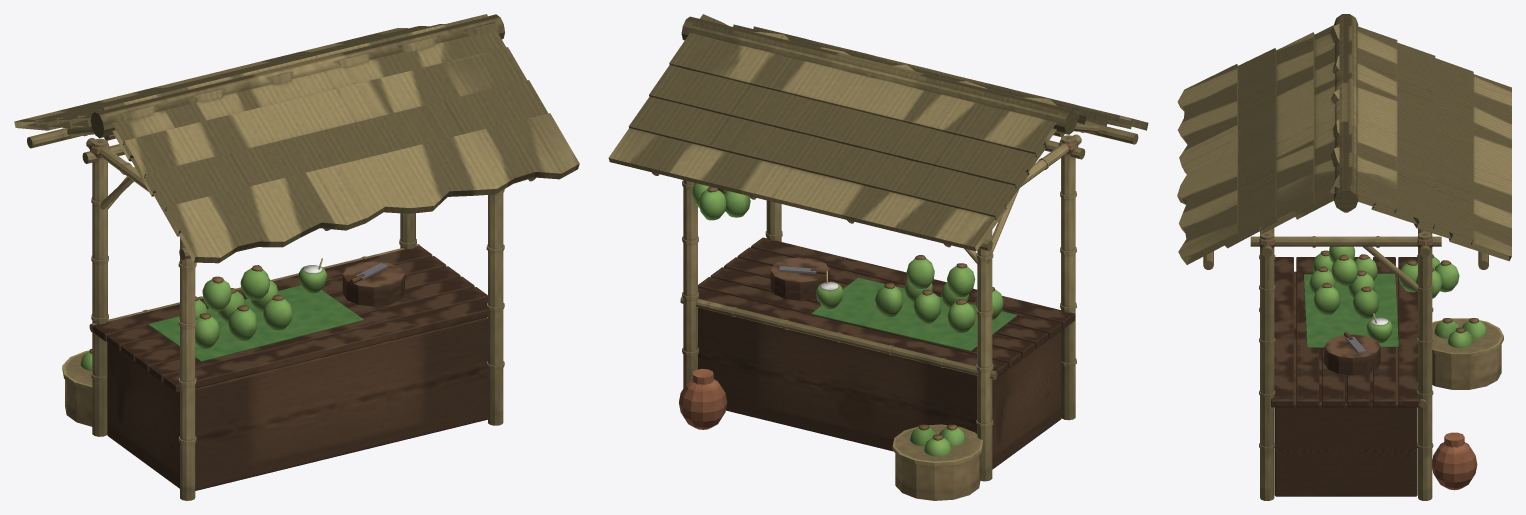
The model's file is market_stall_coconut.glb.
The picture shows the model from 3 angles, left to right: view 1: azimuth 30°, elevation 25°; view 2: azimuth 150°, elevation 25°; view 3: azimuth 270°, elevation 25°; orthographic projection. The views are drawn at different scales.
Parts seen in each view (by area): view 1: Counter_Base.001, Ola_Back_0.001, Ola_Back_1.001, Ola_Back_2.001, Ola_Back_3.001, Counter_Plank_0.001, Ola_Ridge_Cap.001, Coconut_Leaf_Mat, Bamboo_Pillar_2.001, Bamboo_Pillar_0.001, Bamboo_Pillar_1.001, Counter_Plank_1.001 (+18 smaller); view 2: Counter_Base.001, Ola_Front_0.001, Ola_Front_3.001, Ola_Front_1.001, Ola_Front_2.001, Ola_Ridge_Cap.001, Coconut_Leaf_Mat, Bamboo_Pillar_0.001, Counter_Plank_5.001, Ground_Coconut_Kooda_Body, Bamboo_Pillar_2.001, Counter_Plank_0.001 (+20 smaller); view 3: Counter_Base.001, Ola_Back_0.001, Ola_Front_3.001, Ola_Front_0.001, Ola_Front_1.001, Ola_Back_1.001, Ola_Front_2.001, Ola_Back_2.001, Ola_Back_3.001, Coconut_Leaf_Mat, Bamboo_Pillar_1.001, Bamboo_Pillar_3.001 (+21 smaller).
Part boxes in pixels (left/top/right/bottom): Counter_Base.001: left=107, top=317, right=487, bottom=490; Ola_Back_0.001: left=165, top=113, right=579, bottom=263; Ola_Back_1.001: left=144, top=80, right=548, bottom=236; Ola_Back_2.001: left=123, top=47, right=527, bottom=196; Ola_Back_3.001: left=102, top=14, right=505, bottom=161; Counter_Plank_0.001: left=163, top=298, right=487, bottom=392; Ola_Ridge_Cap.001: left=90, top=14, right=504, bottom=138; Coconut_Leaf_Mat: left=148, top=285, right=363, bottom=361; Bamboo_Pillar_2.001: left=92, top=138, right=107, bottom=436; Bamboo_Pillar_0.001: left=180, top=238, right=195, bottom=500; Bamboo_Pillar_1.001: left=488, top=193, right=503, bottom=425; Counter_Plank_1.001: left=149, top=287, right=487, bottom=382; Counter_Base.001: left=698, top=307, right=1061, bottom=469; Ola_Front_0.001: left=608, top=128, right=1006, bottom=251; Ola_Front_3.001: left=669, top=14, right=1056, bottom=156; Ola_Front_1.001: left=628, top=96, right=1029, bottom=219; Ola_Front_2.001: left=649, top=65, right=1046, bottom=188; Ola_Ridge_Cap.001: left=681, top=16, right=1077, bottom=134; Coconut_Leaf_Mat: left=811, top=277, right=1016, bottom=351; Bamboo_Pillar_0.001: left=1061, top=135, right=1075, bottom=420; Counter_Plank_5.001: left=698, top=287, right=1007, bottom=377; Ground_Coconut_Kooda_Body: left=895, top=426, right=980, bottom=500; Bamboo_Pillar_2.001: left=977, top=230, right=992, bottom=481; Counter_Plank_0.001: left=751, top=237, right=1075, bottom=328; Counter_Base.001: left=1274, top=271, right=1417, bottom=496; Ola_Back_0.001: left=1177, top=64, right=1239, bottom=264; Ola_Front_3.001: left=1330, top=23, right=1397, bottom=213; Ola_Front_0.001: left=1449, top=74, right=1511, bottom=261; Ola_Front_1.001: left=1413, top=58, right=1473, bottom=245; Ola_Back_1.001: left=1221, top=48, right=1277, bottom=248; Ola_Front_2.001: left=1371, top=42, right=1435, bottom=229; Ola_Back_2.001: left=1259, top=32, right=1315, bottom=233; Ola_Back_3.001: left=1293, top=16, right=1353, bottom=219; Coconut_Leaf_Mat: left=1303, top=273, right=1398, bottom=347; Bamboo_Pillar_1.001: left=1260, top=232, right=1274, bottom=500; Bamboo_Pillar_3.001: left=1418, top=232, right=1432, bottom=500.
Size of the model in its own units: 3.28 by 2.88 by 2.63.
Materials: 2 (1 with a texture image).
